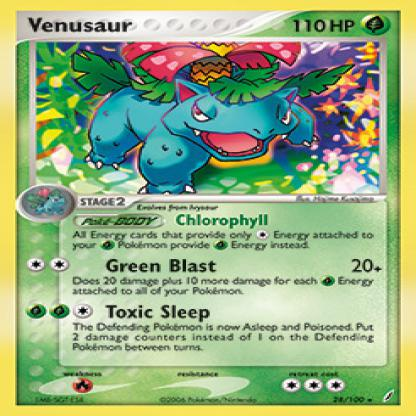Venusaur: (50, 43, 333, 188)
